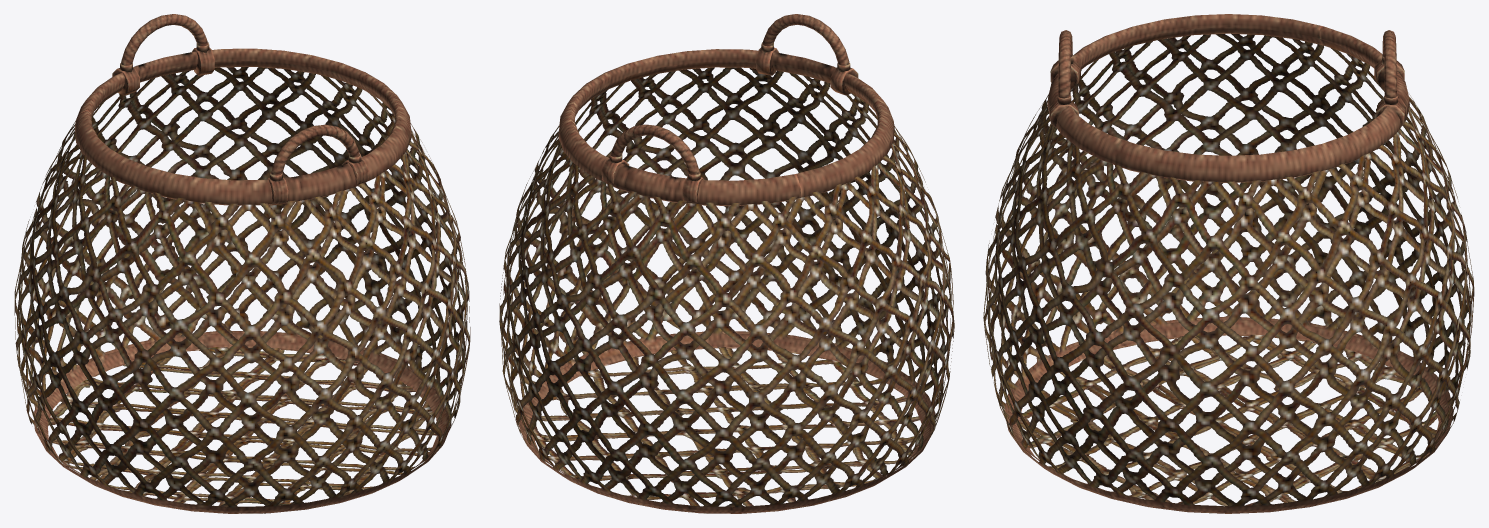
The model's file is basket.fbx.
The picture shows the model from 3 angles, left to right: view 1: azimuth 30°, elevation 25°; view 2: azimuth 150°, elevation 25°; view 3: azimuth 270°, elevation 25°; orthographic projection. The views are drawn at different scales.
Parts seen in each view (by area): view 1: basket; view 2: basket; view 3: basket.
Boxes of the visible parts, <box> form: basket: <box>14,14,470,513</box>; basket: <box>499,14,954,513</box>; basket: <box>983,14,1474,513</box>.
Bounding box in the file's own units: 175 × 154 × 175.
1 material, 1 textured.
